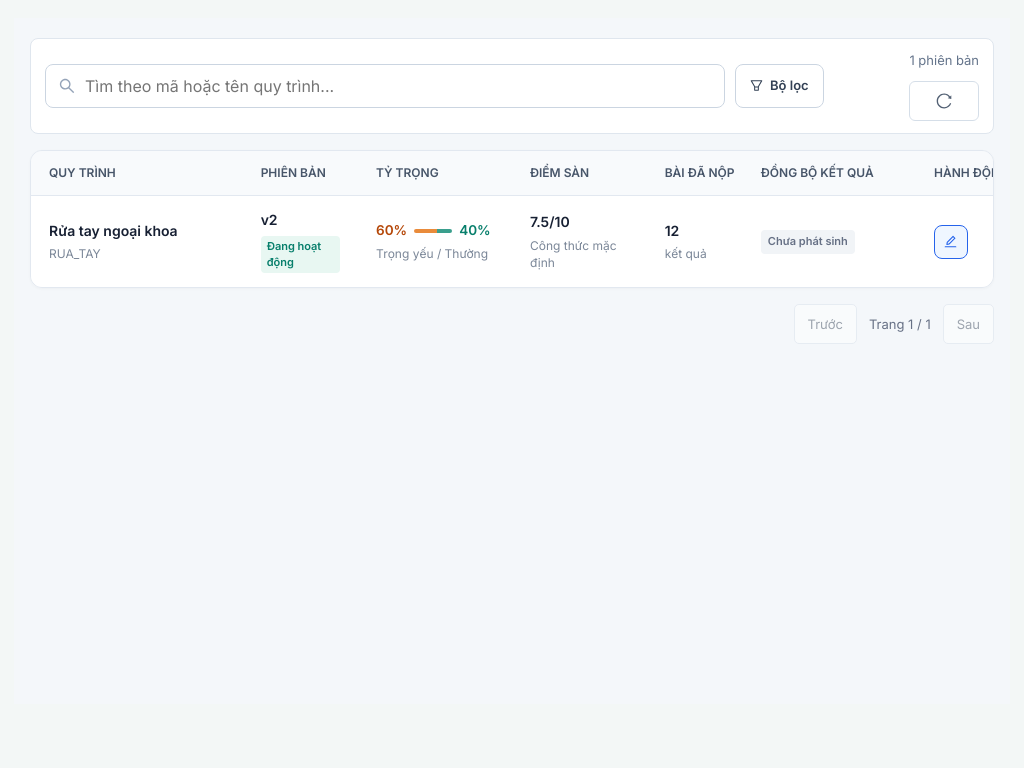
ScoringFormulaPage - chỉnh công thức › mở hộp thoại với dữ liệu hiện tại và khoá tỷ trọng của bản đã công bố
Expected: the text "Rửa tay ngoại khoa" is shown, [49, 222, 178, 239]
Click the button named "Chỉnh công thức Rửa tay ngoại khoa phiên bản 2" at (951, 242), box [934, 225, 968, 259]
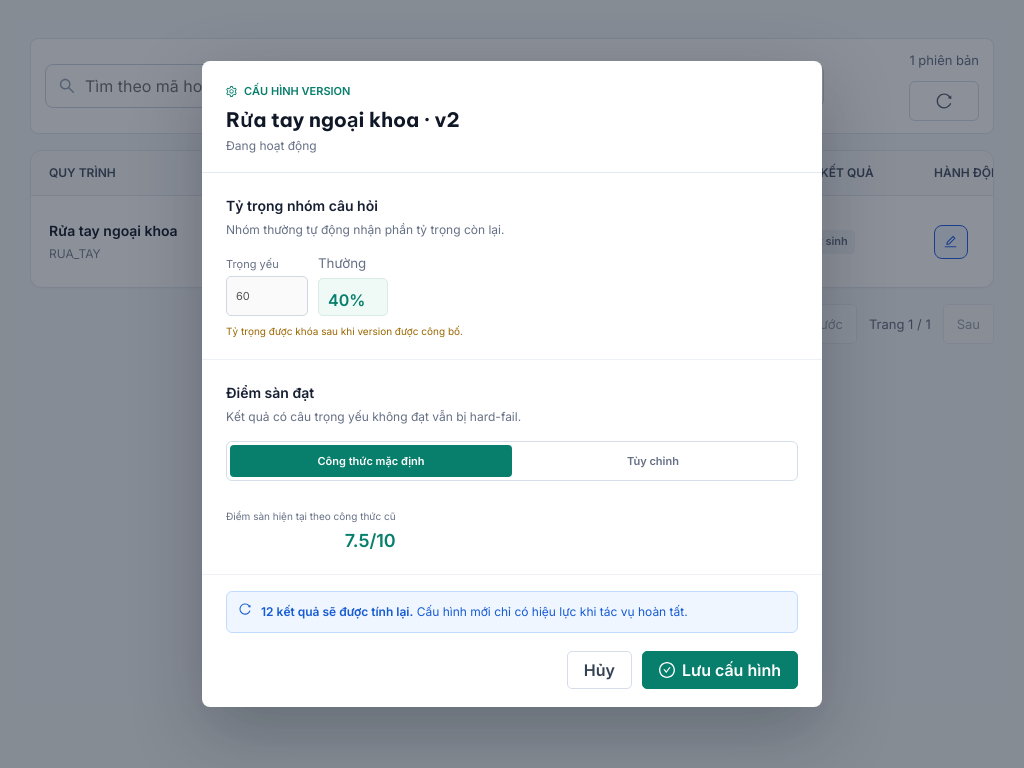
Now the number field is disabled, box [226, 276, 308, 316]
Now the text "Tỷ trọng được khóa sau khi version được công bố." is shown, box [226, 324, 463, 339]
Now the text "7.5/10" is shown, box [345, 530, 396, 551]
